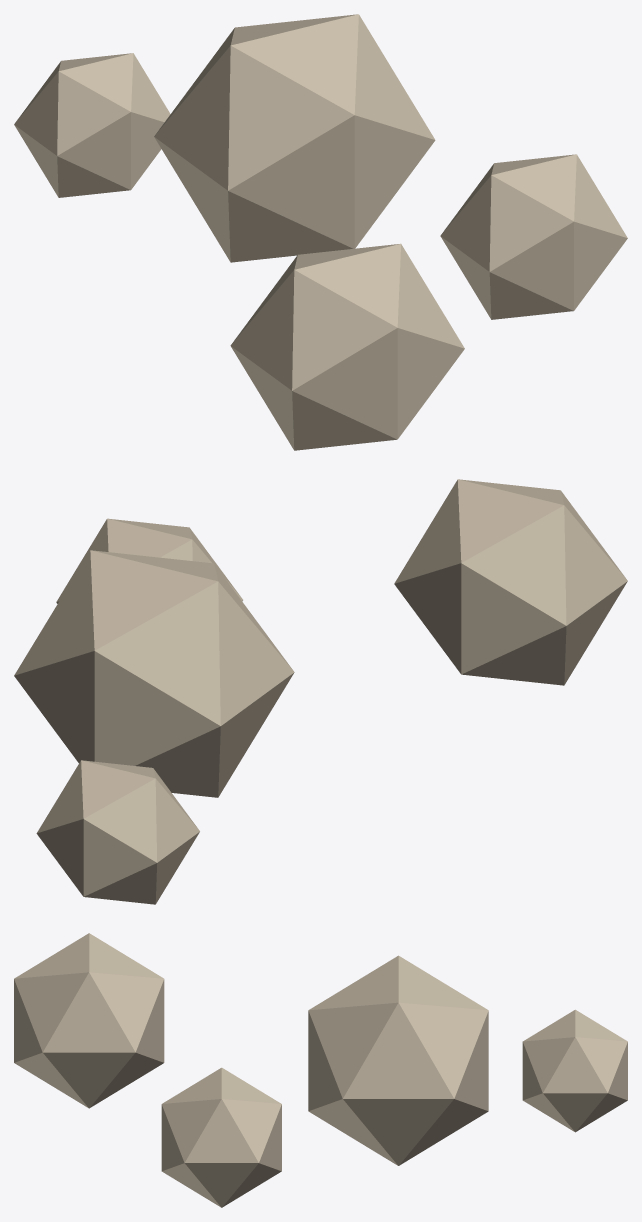
File: toro_jog.glb
3 views of the same model, one above another, from view 1: azimuth 30°, elevation 25°; view 2: azimuth 150°, elevation 25°; view 3: azimuth 270°, elevation 25° (orthographic). The views are drawn at different scales.
Visible parts, largest first — view 1: dust_gym_dust; view 2: dust_gym_dust; view 3: dust_gym_dust.
Part boxes in pixels (left/top/right/bottom): dust_gym_dust: left=14, top=14, right=627, bottom=450; dust_gym_dust: left=14, top=479, right=627, bottom=904; dust_gym_dust: left=14, top=933, right=627, bottom=1207.
Size of the model in its own units: 0.4231 by 0.2116 by 0.6946.
